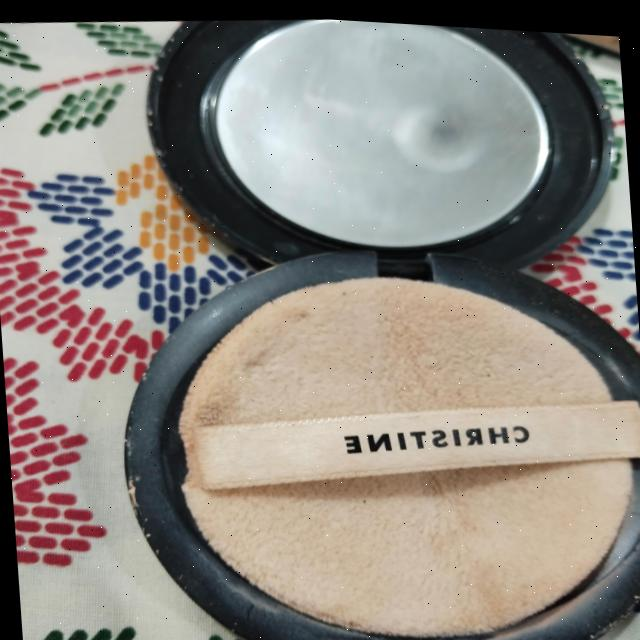beauty blender: (117, 226, 640, 640)
